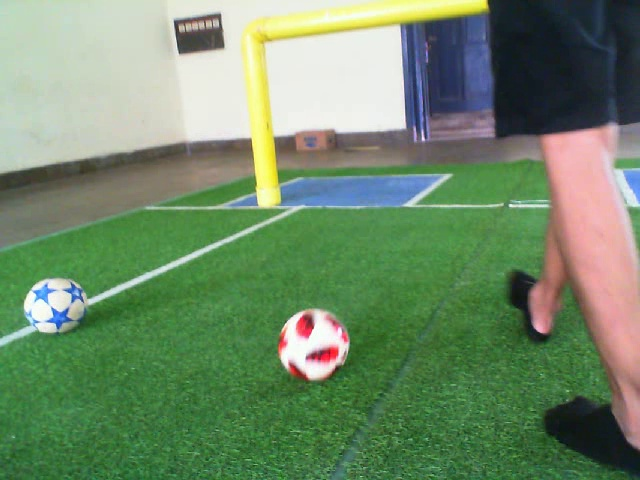ball: (276, 306, 351, 385), (21, 275, 90, 336)
